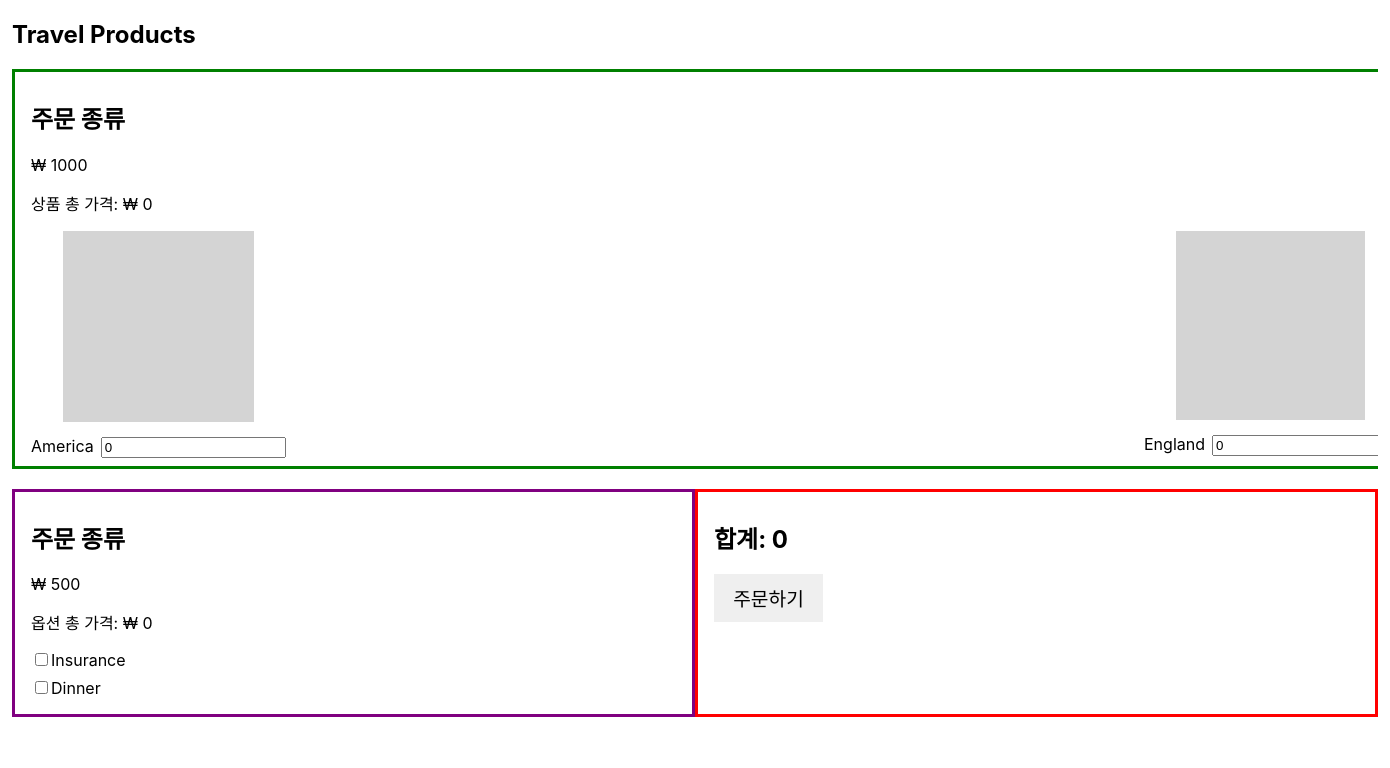
Test: total price of goods and options › total price starts with 0 and Updating total price when adding one product
Expected: the heading "합계: 0" is shown, top-left (714, 525), bottom-right (788, 554)
Step 1. Replace the text in the number field labelled "America" with "3" → [193, 447], box top-left (101, 437), bottom-right (286, 458)
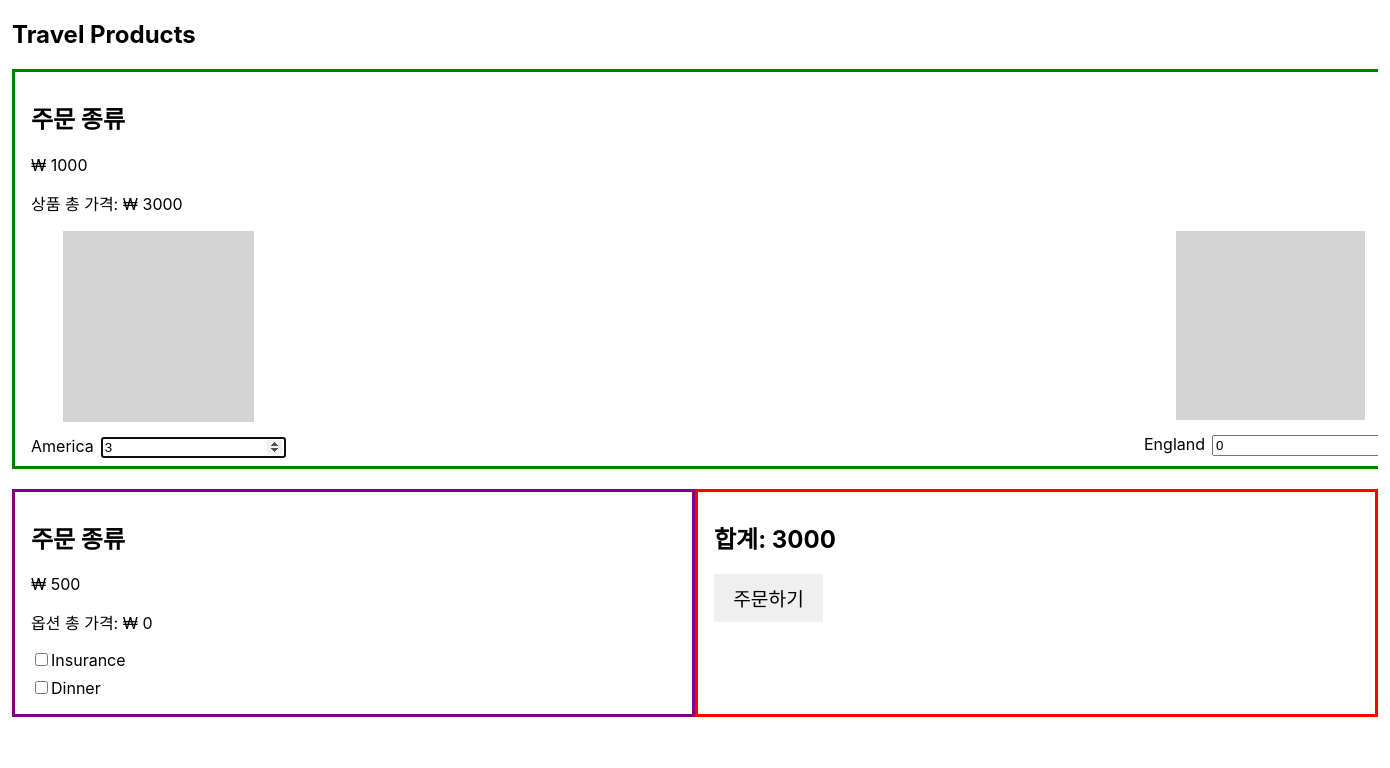
Step 2. Replace the text in the number field labelled "America" with "1" → [193, 447], box top-left (101, 437), bottom-right (286, 458)
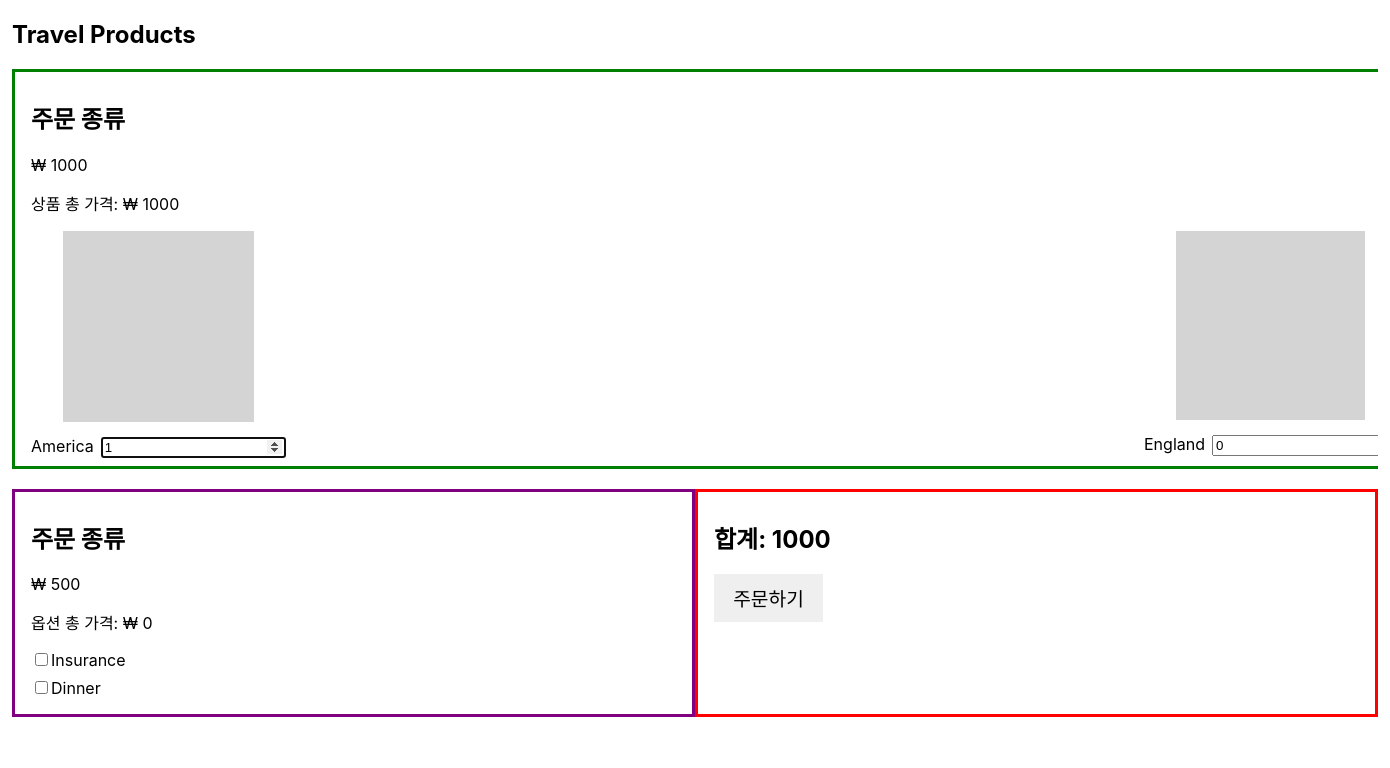
Result: the heading "합계: 1000" is shown at top-left (714, 525), bottom-right (831, 554)
